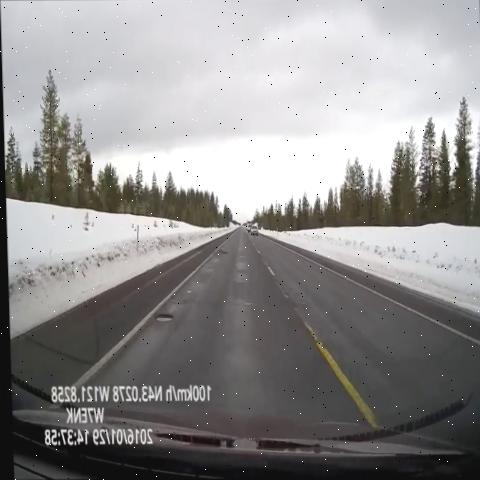pothole: (152, 301, 174, 331), (211, 249, 229, 267)
